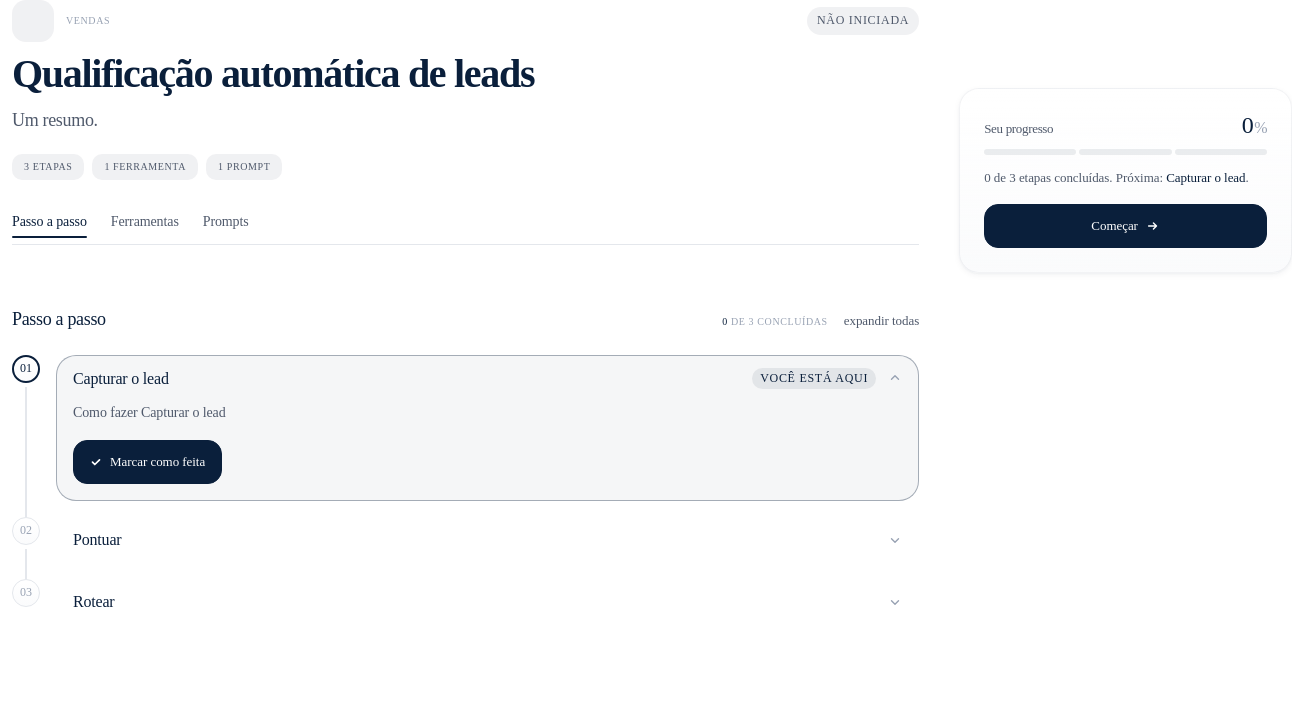
Test: ficha da solução › prompt sem corpo não oferece copiar — confirmaria uma cópia vazia
Click the tab "Prompts" at (226, 224), box [191, 204, 261, 244]
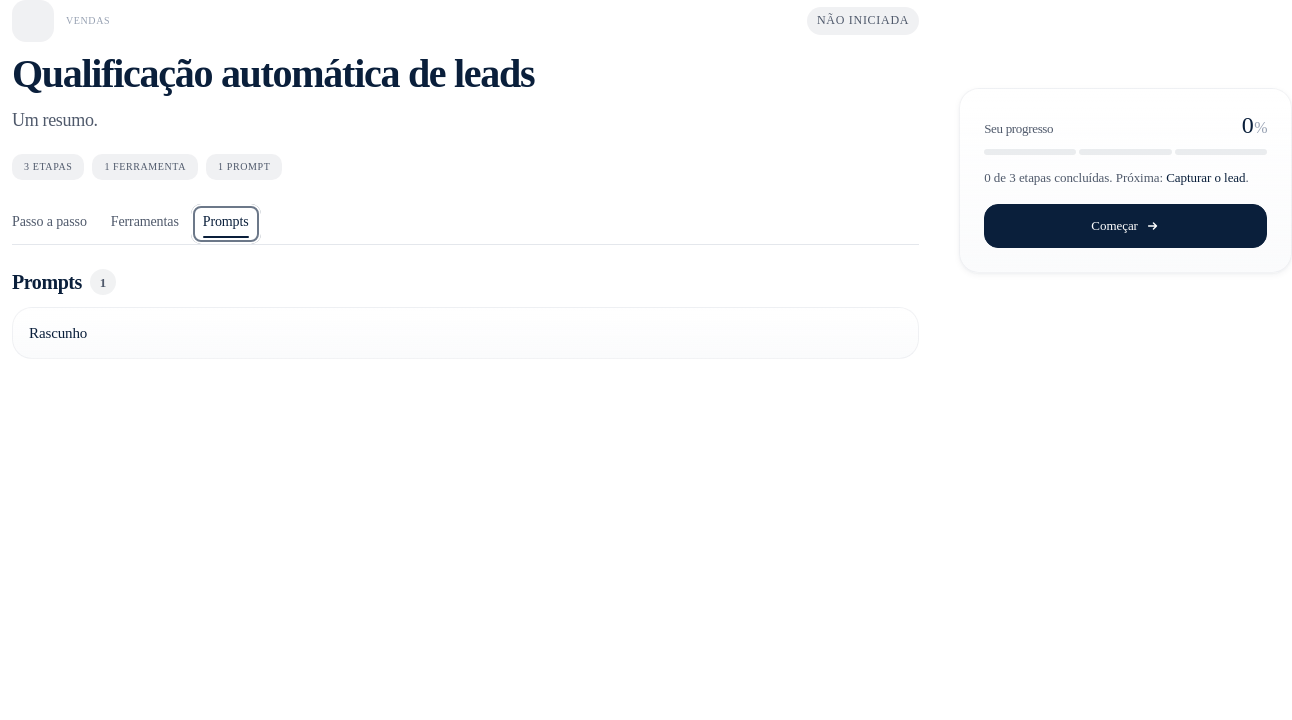
Expected: the text "Rascunho" is shown, [29, 324, 87, 342]
